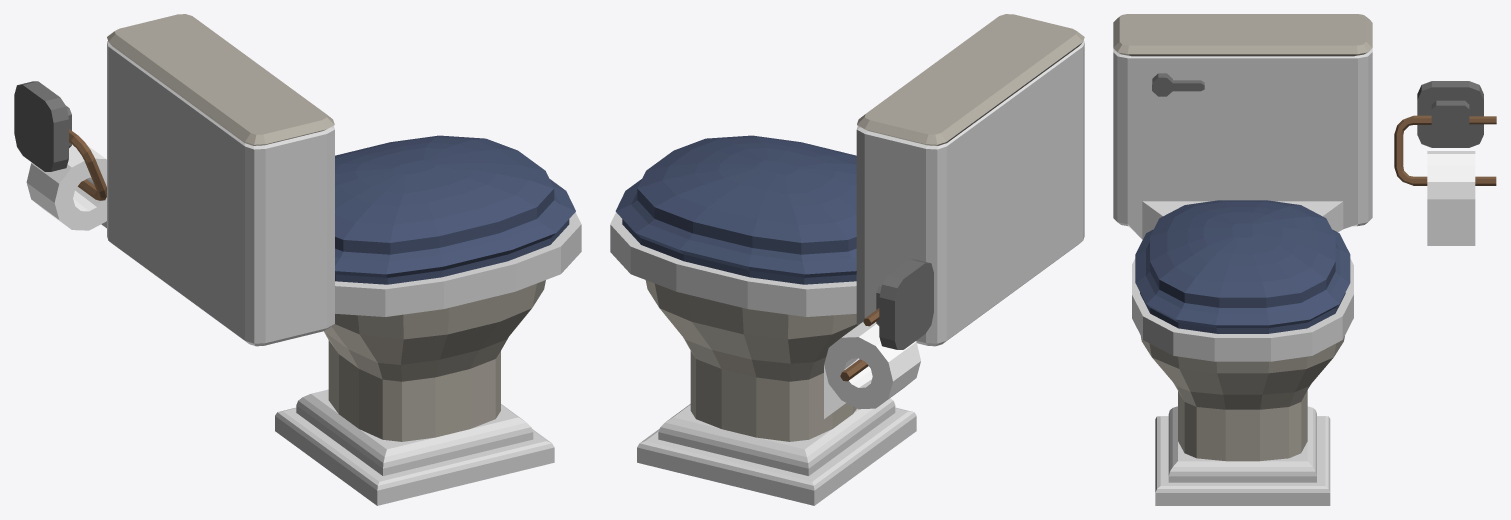
File: SM_Toilet_01.glb
3 renders of one model, left to right at view 1: azimuth 30°, elevation 25°; view 2: azimuth 150°, elevation 25°; view 3: azimuth 270°, elevation 25°, orthographic. The views are drawn at different scales.
Visible parts, largest first — view 1: SM_Toilet_01; view 2: SM_Toilet_01; view 3: SM_Toilet_01.
Boxes of the visible parts, x1,y1,x2,y2 form: SM_Toilet_01: (14, 14, 581, 505); SM_Toilet_01: (610, 14, 1084, 505); SM_Toilet_01: (1113, 14, 1496, 505).
Size of the model in its own units: 0.926 by 0.9308 by 0.9025.
Materials: 1 (1 with a texture image).
